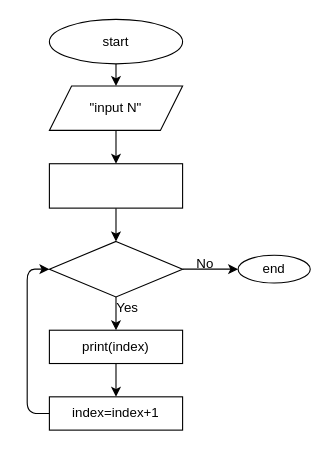
Some shapes in this 330 by 450 pixel diagram are drawn without their labels. The centre of each missing label's shape, as x and y in pixels:
"index<=N" goes at (x=115, y=268).
"index=0-N" goes at (x=115, y=185).
